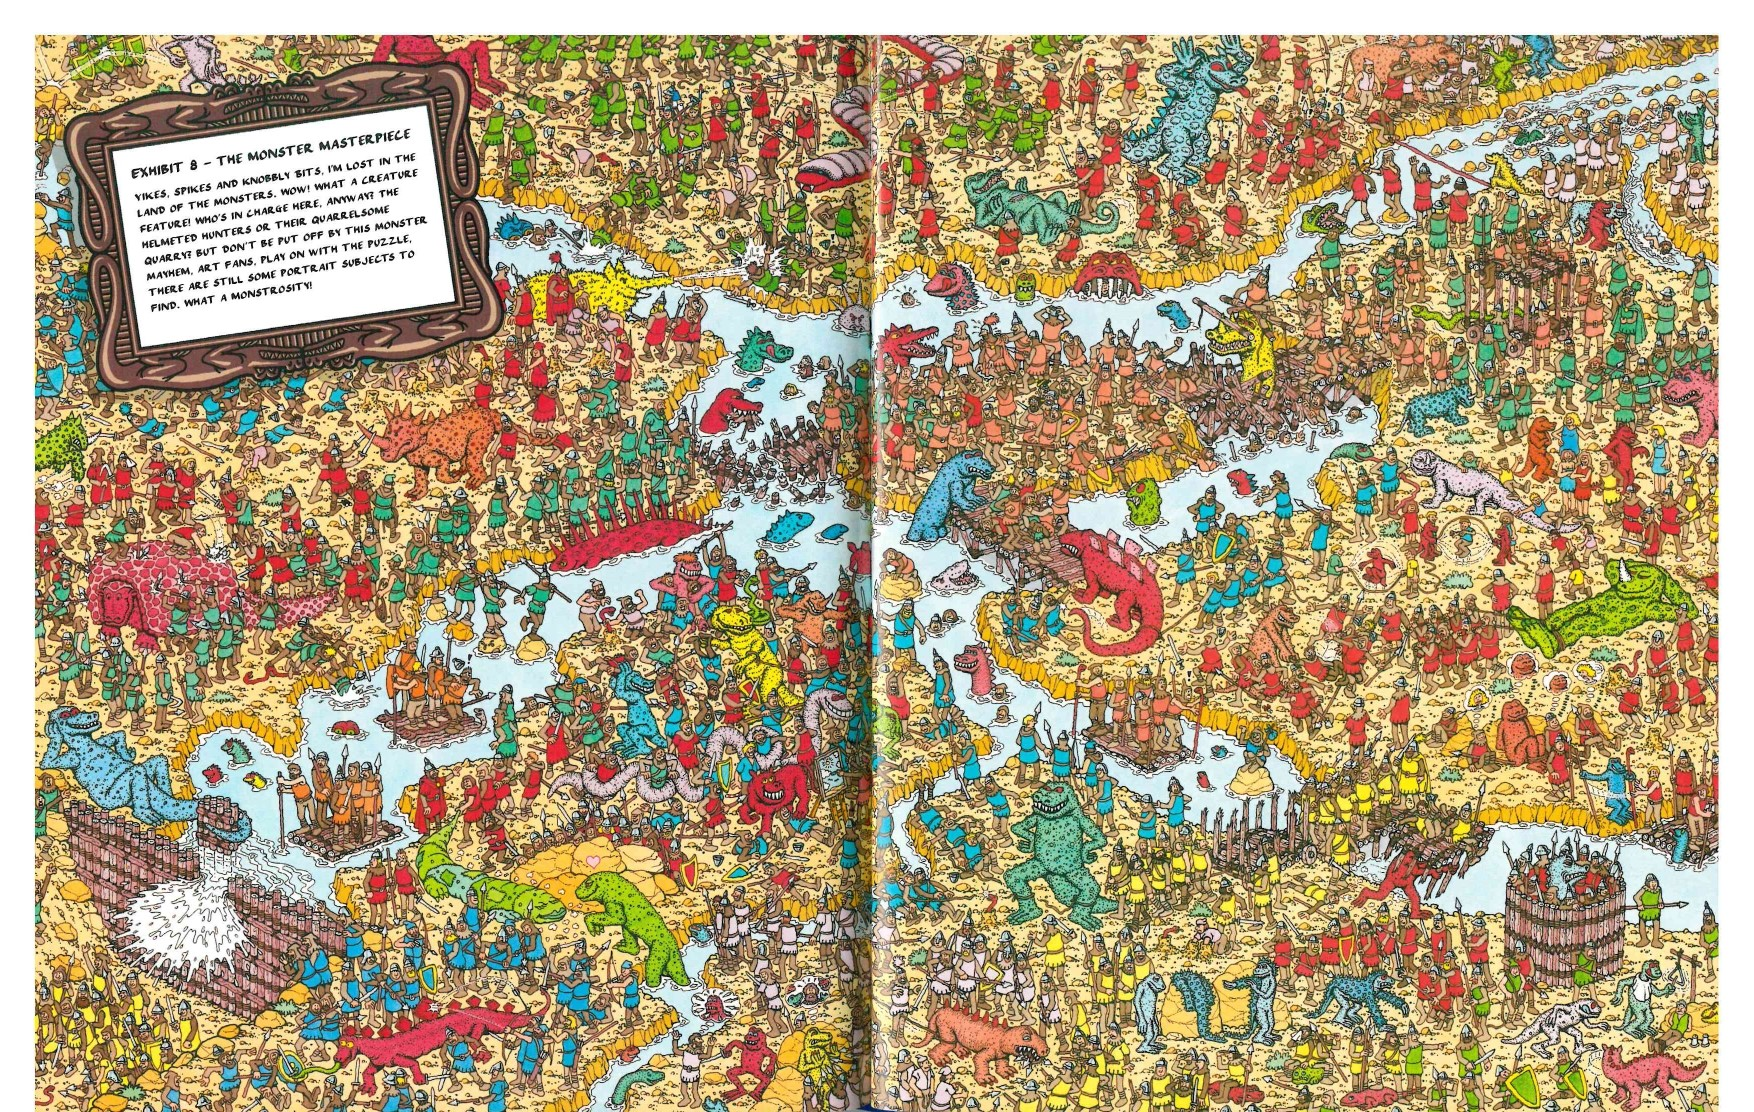waldos: (1535, 212, 1552, 248)
